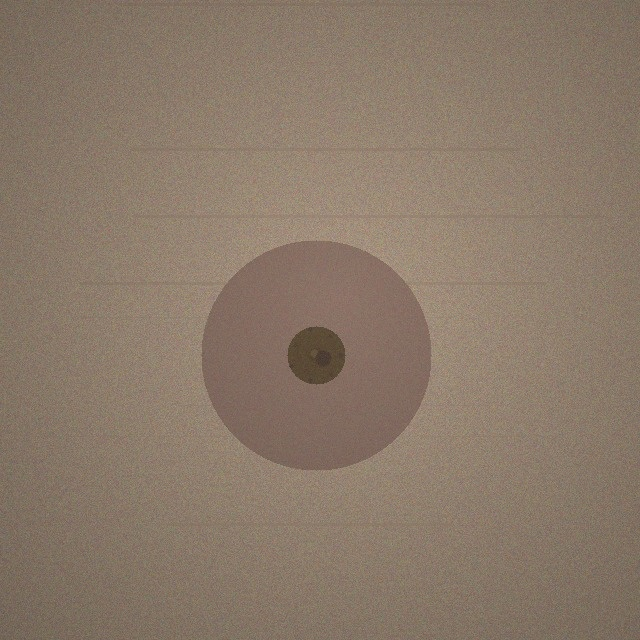cold_weld: (201, 240, 431, 470)
